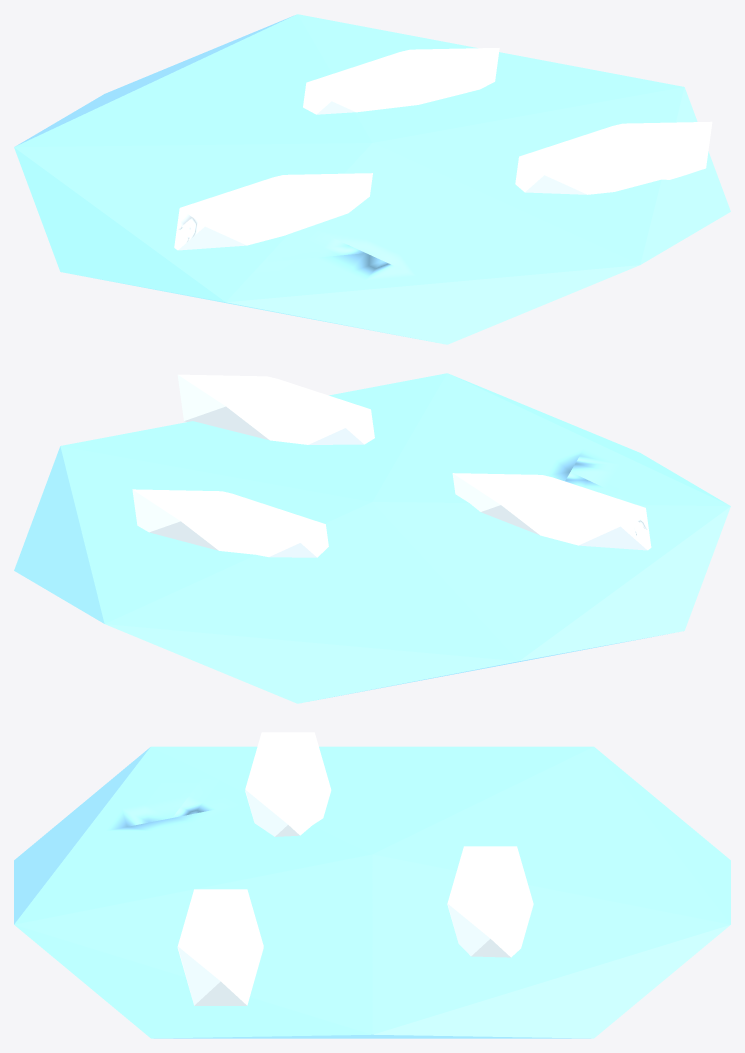
The model's file is fish_spot.glb.
The picture shows the model from 3 angles, top to bottom: view 1: azimuth 30°, elevation 25°; view 2: azimuth 150°, elevation 25°; view 3: azimuth 270°, elevation 25°; orthographic projection. The views are drawn at different scales.
Visible parts, largest first — view 1: Shoal; view 2: Shoal; view 3: Shoal.
Part boxes in pixels (x1,y1,x2,y2): Shoal: (14,14,730,344); Shoal: (14,373,730,703); Shoal: (14,732,730,1038).
Size of the model in its own units: 0.8944 by 0.14 by 0.8506.
